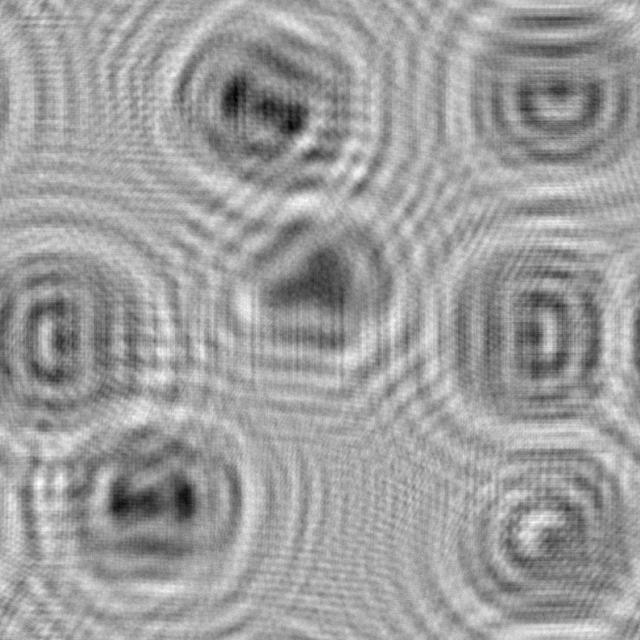A: (170, 169, 439, 425)
B: (18, 385, 287, 640), (129, 0, 416, 229)
C: (425, 427, 640, 640)
D: (391, 186, 640, 471), (0, 204, 190, 461), (427, 0, 640, 213)
